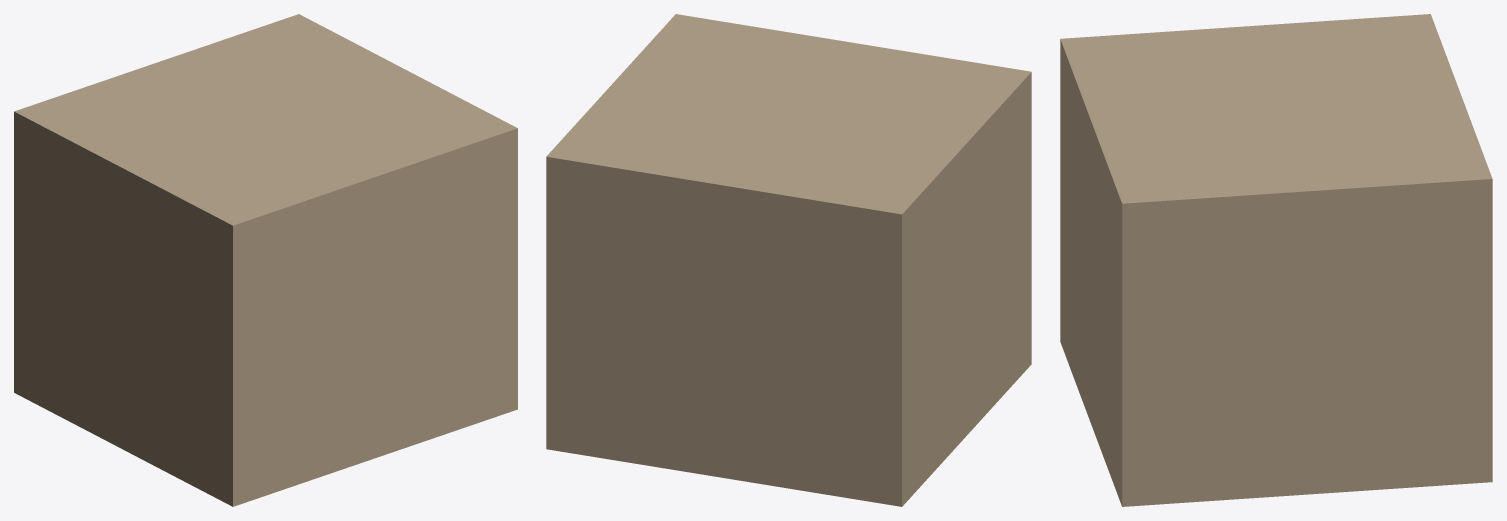
The model's file is bld_107639031.dae.
3 renders of one model, left to right at view 1: azimuth 30°, elevation 25°; view 2: azimuth 150°, elevation 25°; view 3: azimuth 270°, elevation 25°, orthographic. The views are drawn at different scales.
Parts seen in each view (by area): view 1: bld_107639031; view 2: bld_107639031; view 3: bld_107639031.
Boxes of the visible parts, x1,y1,x2,y2 form: bld_107639031: [14, 14, 517, 506]; bld_107639031: [546, 14, 1031, 506]; bld_107639031: [1060, 14, 1492, 506].
Size of the model in its own units: 10.74 by 10.34 by 8.
